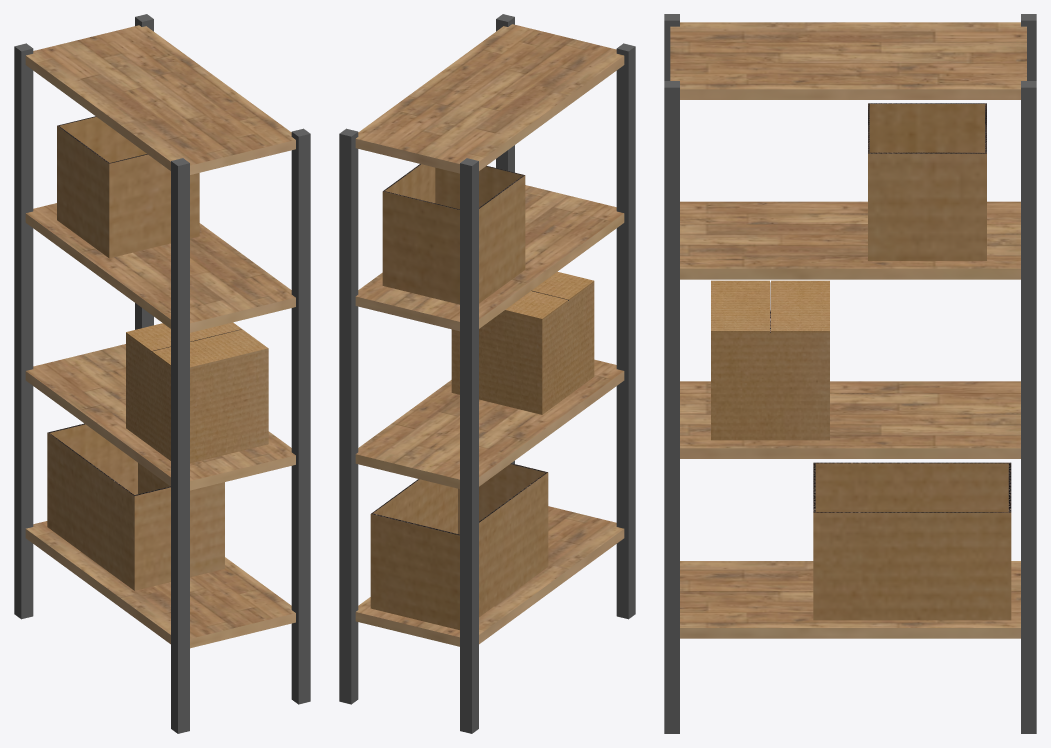
The model's file is SM_Prop_Rack.fbx.
3 renders of one model, left to right at view 1: azimuth 30°, elevation 25°; view 2: azimuth 150°, elevation 25°; view 3: azimuth 270°, elevation 25°, orthographic. The views are drawn at different scales.
Visible parts, largest first — view 1: SM_Prop_Rack; view 2: SM_Prop_Rack; view 3: SM_Prop_Rack.
Part boxes in pixels (<box>): SM_Prop_Rack: <box>14,14,310,733</box>; SM_Prop_Rack: <box>339,14,635,733</box>; SM_Prop_Rack: <box>664,14,1036,733</box>.
Size of the model in its own units: 0.44 by 1.8 by 0.94.
Materials: 2 (2 with a texture image).
